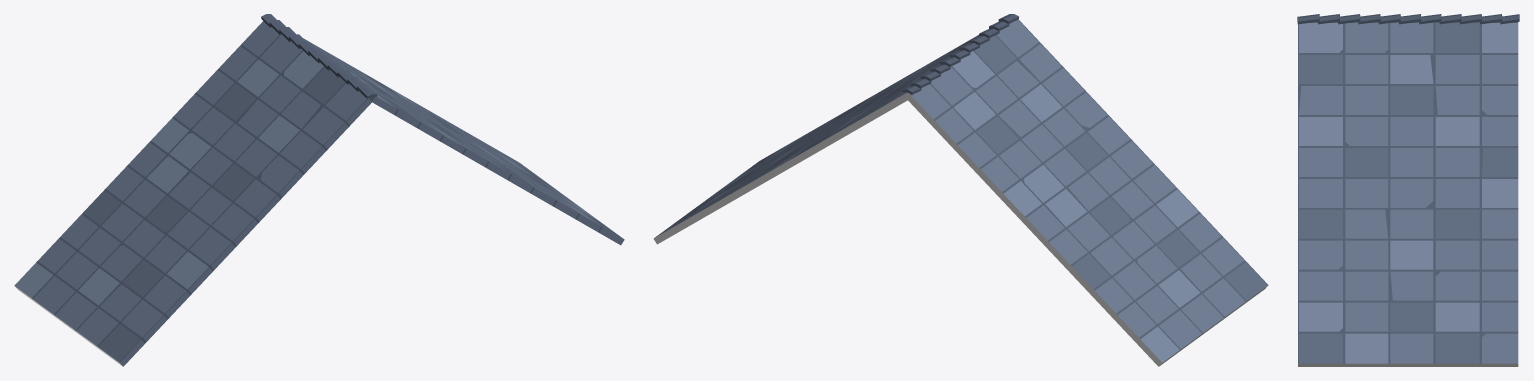
The model's file is Roof2_C7_03.fbx.
3 renders of one model, left to right at view 1: azimuth 30°, elevation 25°; view 2: azimuth 150°, elevation 25°; view 3: azimuth 270°, elevation 25°, orthographic. The views are drawn at different scales.
Visible parts, largest first — view 1: Roof2_C7_03; view 2: Roof2_C7_03; view 3: Roof2_C7_03.
Boxes of the visible parts, x1,y1,x2,y2 form: Roof2_C7_03: (14, 14, 624, 366); Roof2_C7_03: (653, 14, 1268, 366); Roof2_C7_03: (1297, 14, 1519, 366).
Bounding box in the file's own units: 833 × 339 × 304.
